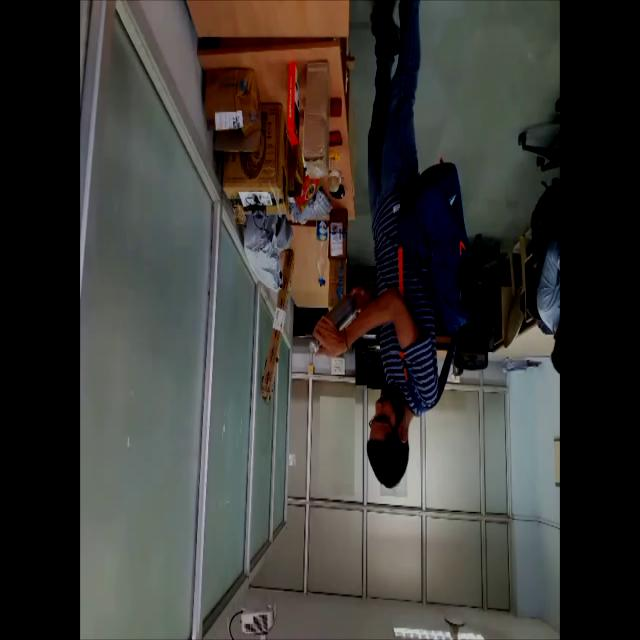normal: (310, 2, 482, 490)
